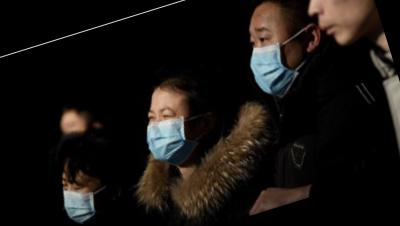with_mask: (239, 14, 318, 102), (137, 97, 199, 164), (58, 173, 106, 226)
